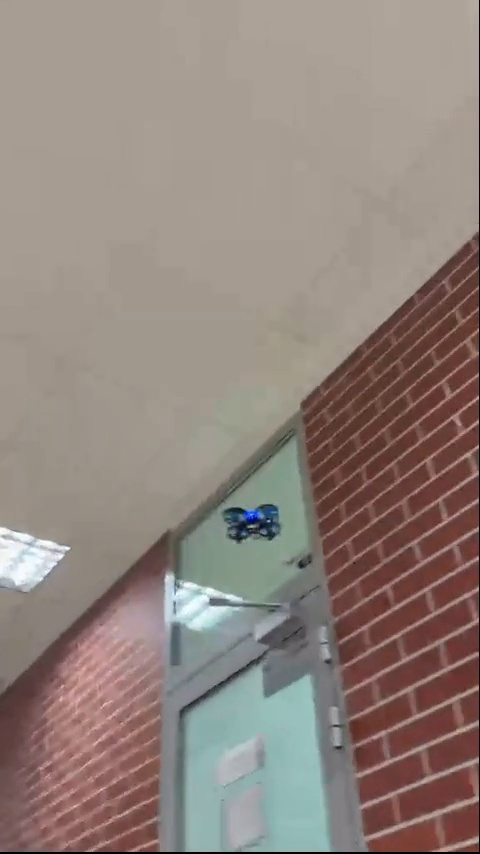drone: (224, 503, 282, 545)
